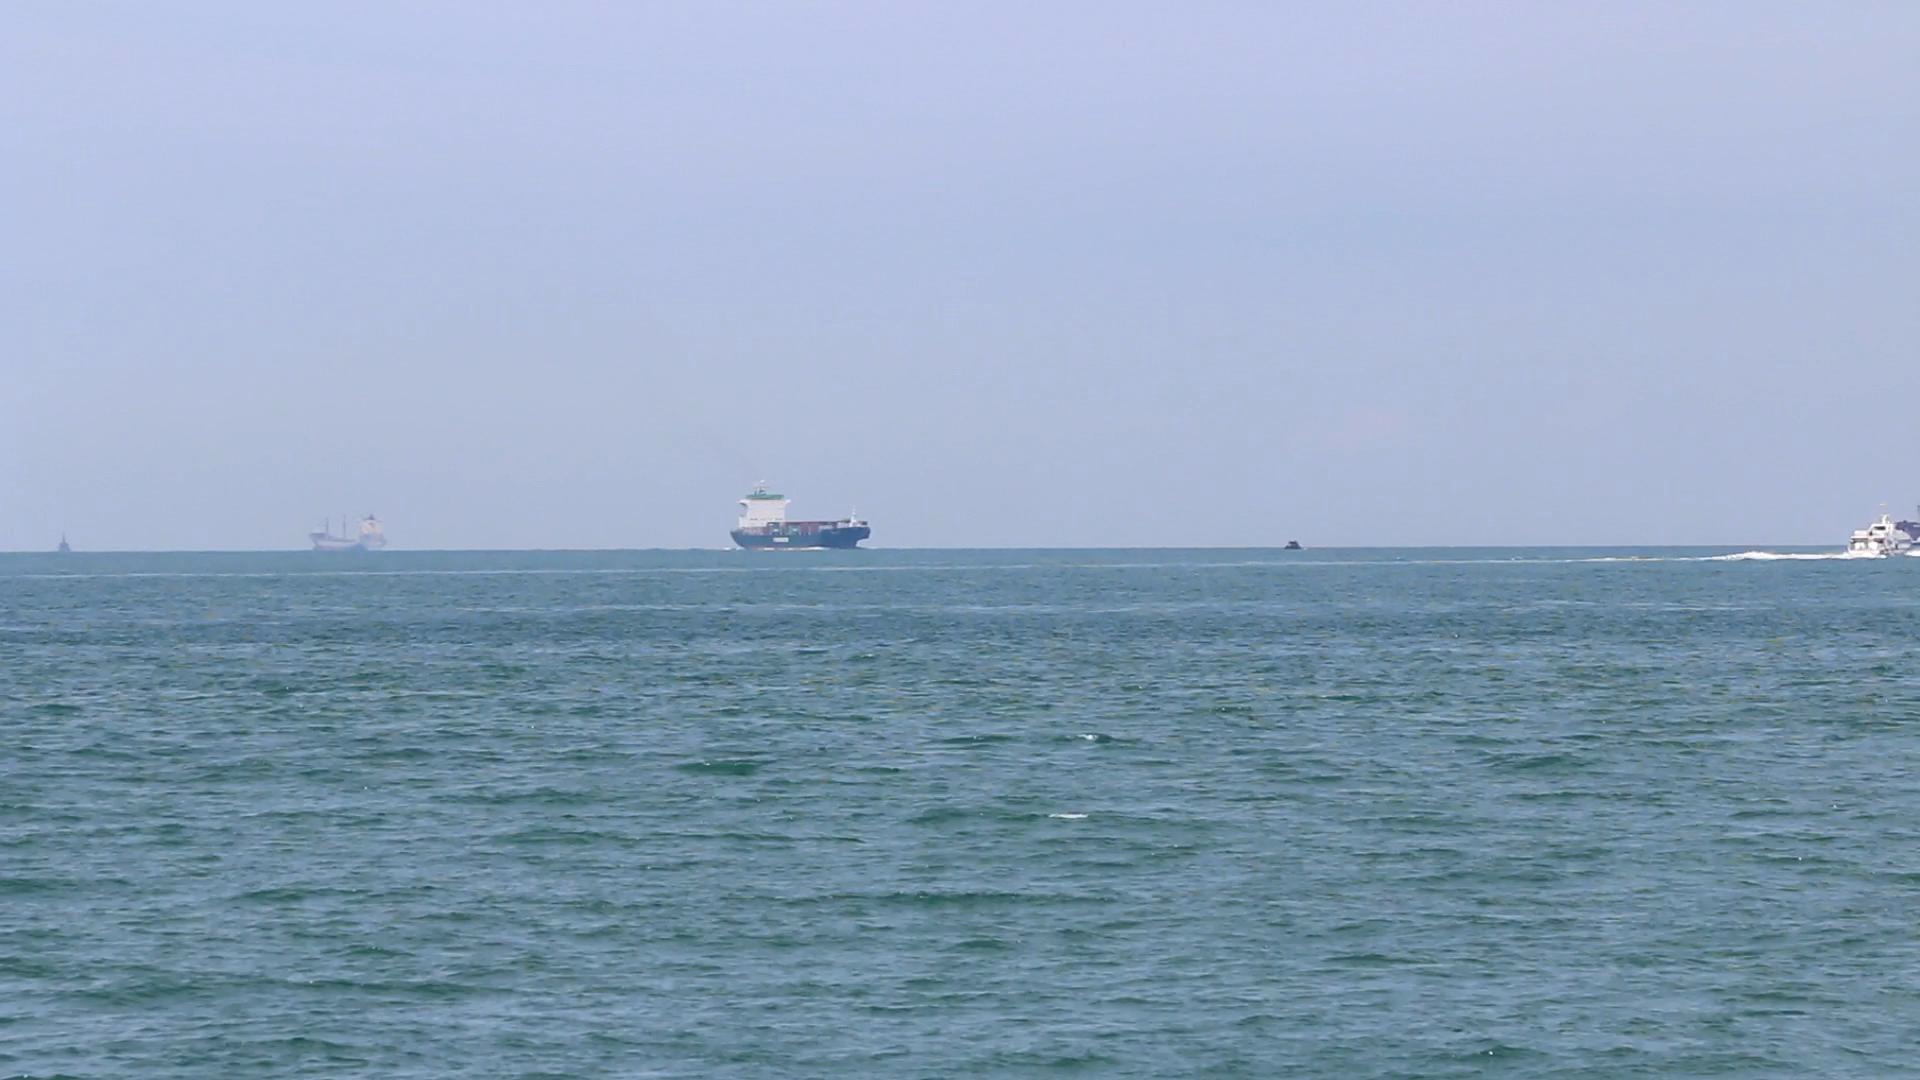Container Ship: (728, 469, 878, 559), (306, 497, 400, 554)
